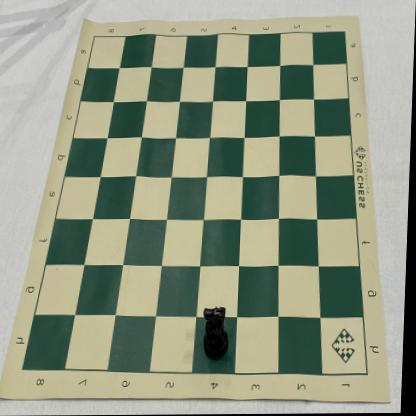black-knight: (204, 306, 232, 362)
